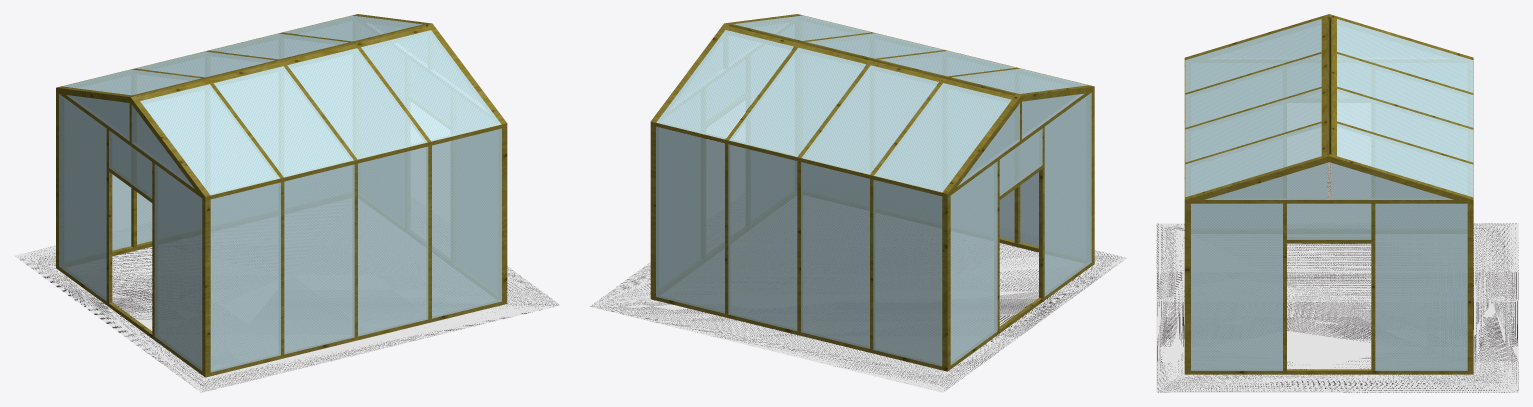
The picture shows the model from 3 angles, left to right: view 1: azimuth 30°, elevation 25°; view 2: azimuth 150°, elevation 25°; view 3: azimuth 270°, elevation 25°; orthographic projection. The views are drawn at different scales.
Parts seen in each view (by area): view 1: SketchUp (×21); view 2: SketchUp (×21); view 3: SketchUp (×15).
Boxes of the visible parts, box(x1,y1,x2,y2) form: SketchUp (×21): box(14, 14, 560, 392); SketchUp (×21): box(590, 14, 1126, 392); SketchUp (×15): box(1156, 14, 1518, 392).
Bounding box in the file's own units: 200 × 181 × 120.
Materials: 8 (6 with a texture image).
